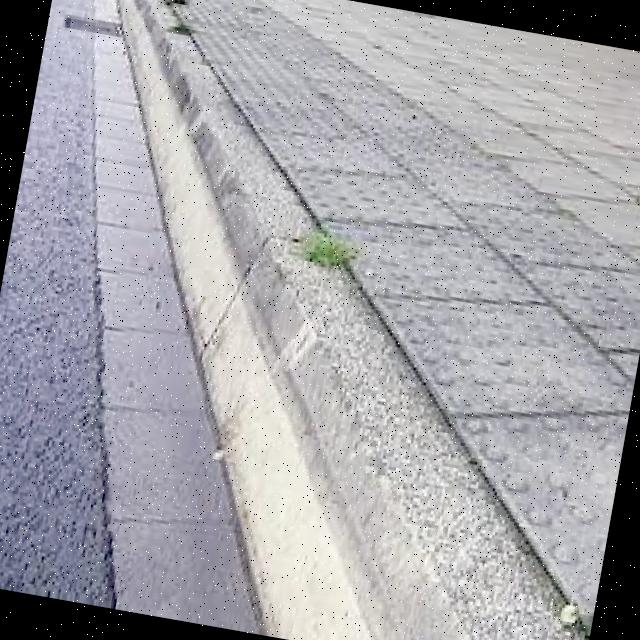curb: (177, 359, 626, 640), (127, 111, 424, 417), (86, 1, 211, 94)
